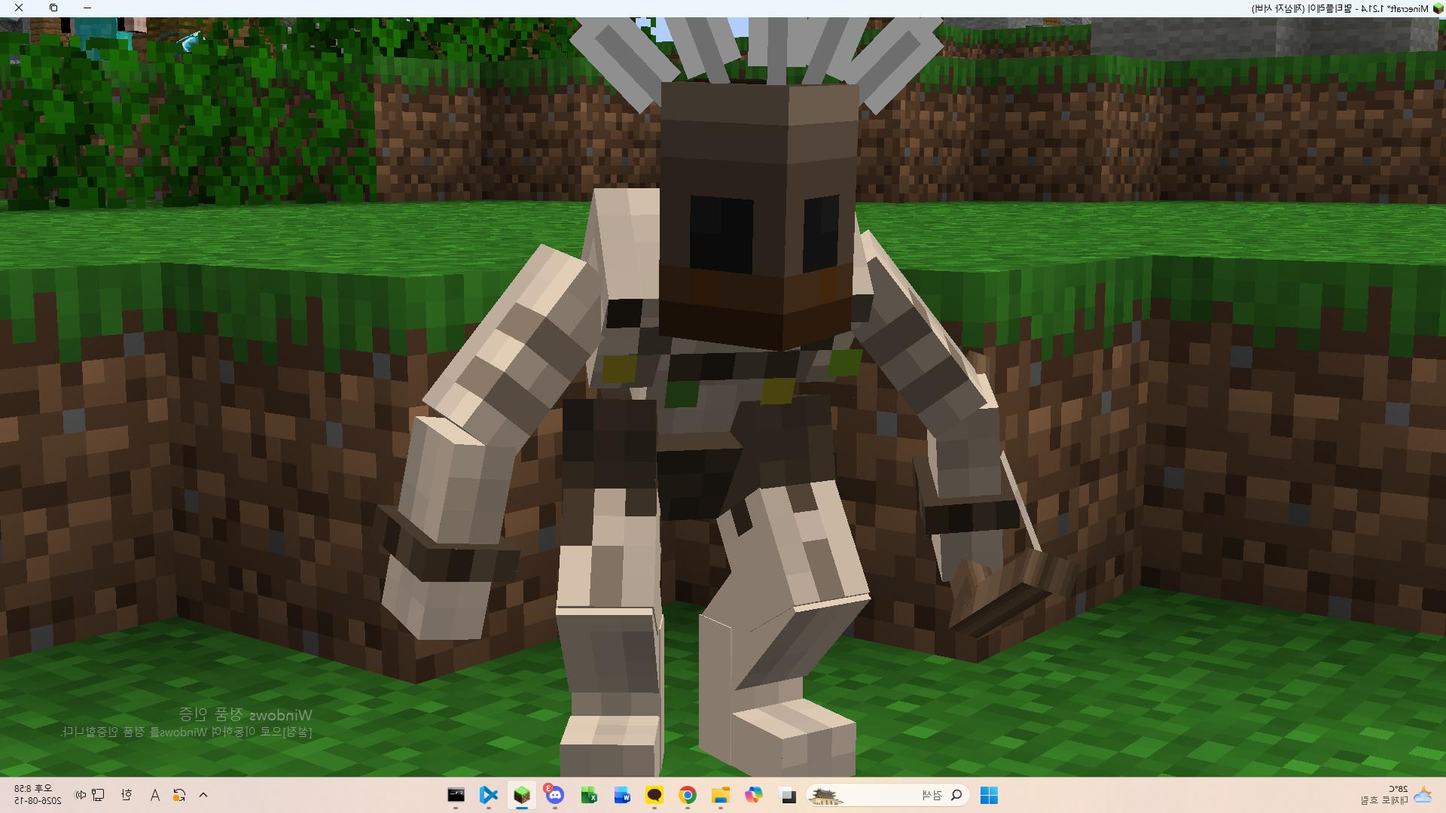bow_indian: (322, 8, 1088, 781)
